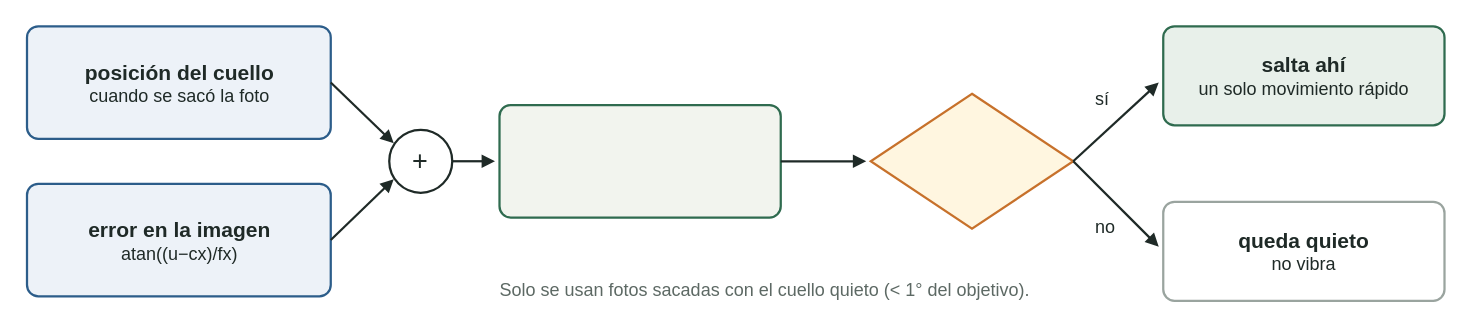
Image size: 1472x329. Some labels were removed from this diagram. The centre of each missing label's shape, as x and y in pixels:
"dirección de la persona" belongs at (639,160).
"¿se corrió > 2,5°?" belongs at (971,160).
